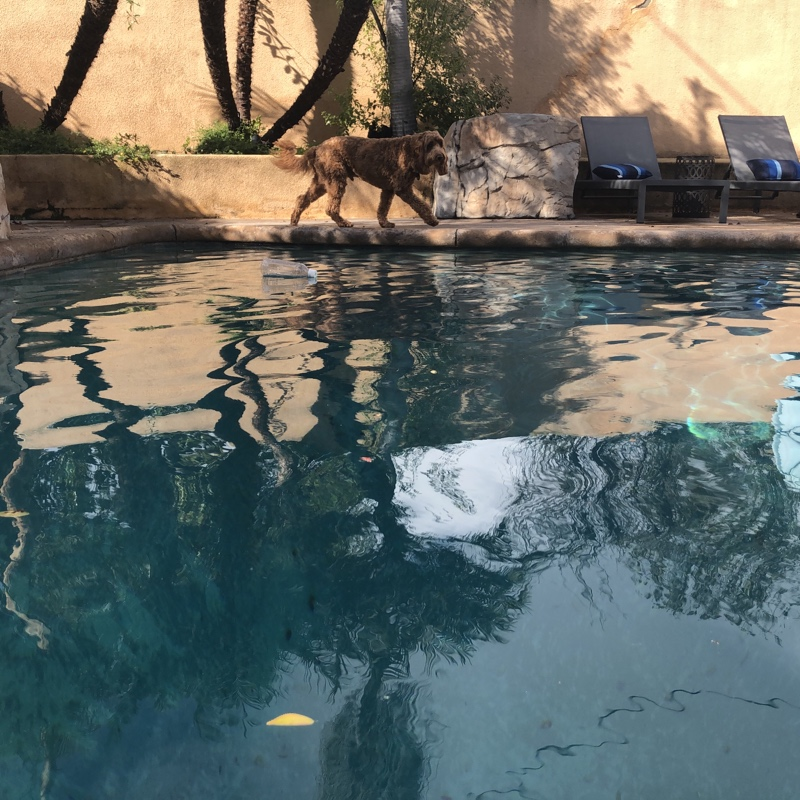Plastic Bottle: (259, 259, 320, 281)
